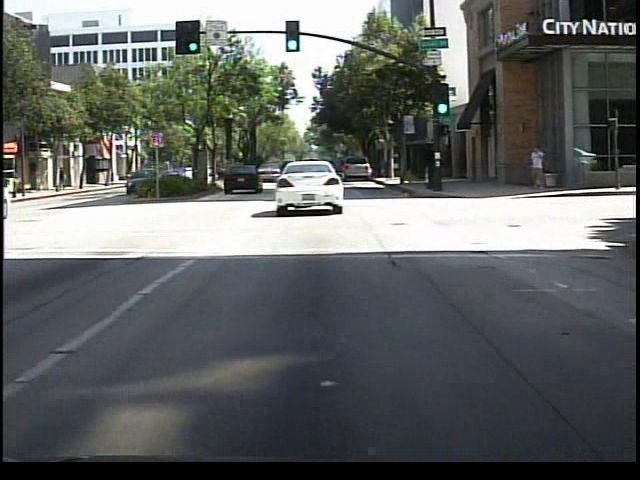person: (526, 143, 550, 195), (56, 162, 71, 196)
